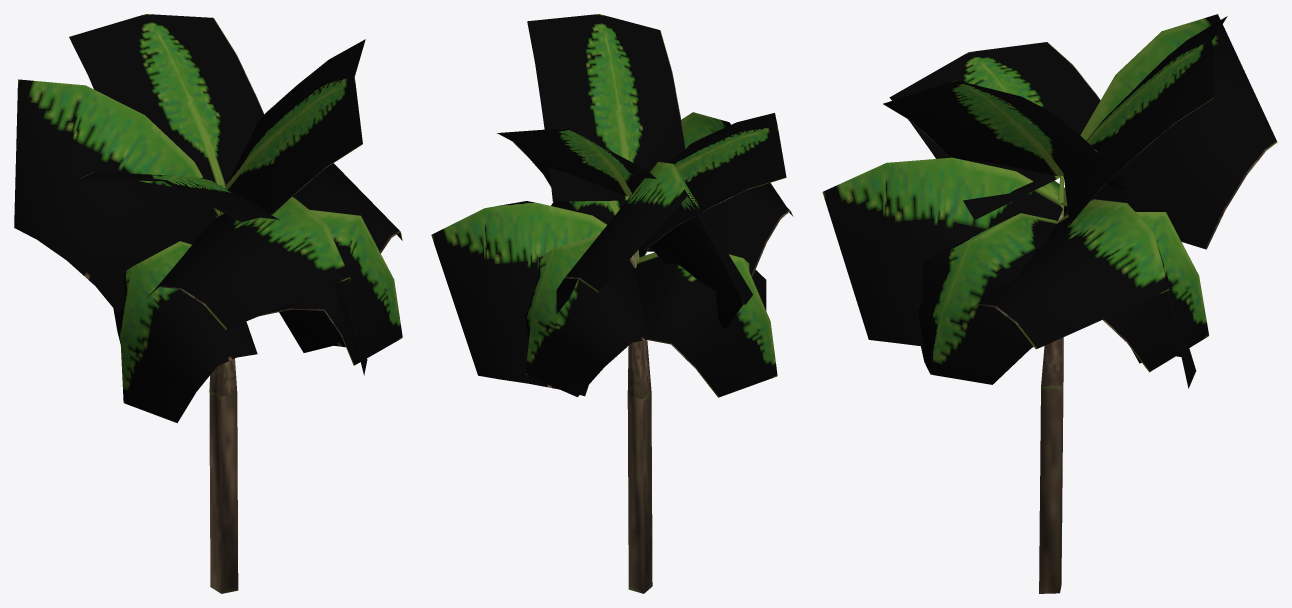
Rendered from palm_tree_2_8.dae.
3 views of the same model, side by side, from view 1: azimuth 30°, elevation 25°; view 2: azimuth 150°, elevation 25°; view 3: azimuth 270°, elevation 25° (orthographic). The views are drawn at different scales.
Visible parts, largest first — view 1: Plane.003; view 2: Plane.003; view 3: Plane.003.
Part boxes in pixels (x1,y1,x2,y2): Plane.003: (14,14,402,593); Plane.003: (431,14,793,593); Plane.003: (822,14,1277,593).
Size of the model in its own units: 0.2553 by 0.2891 by 0.3918.
Materials: 1 (1 with a texture image).
